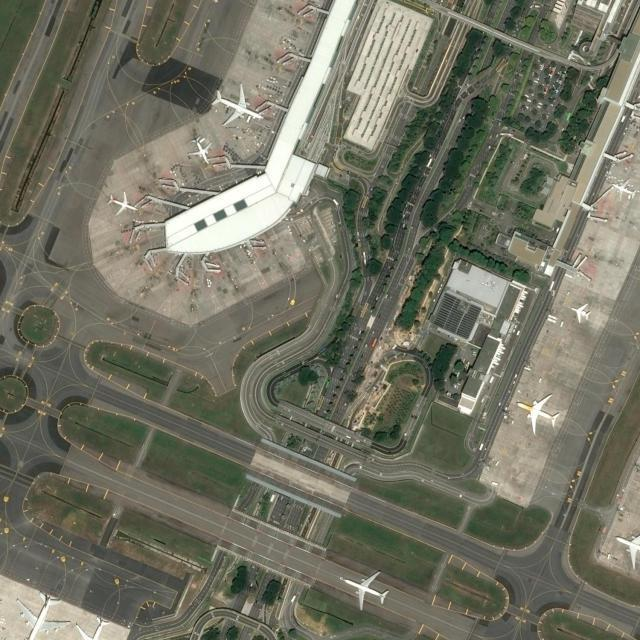Aircraft: (16, 590, 70, 640), (212, 84, 264, 124), (340, 570, 389, 610), (516, 392, 560, 434), (614, 528, 640, 570), (76, 614, 110, 640), (105, 190, 136, 214), (189, 136, 212, 165), (611, 179, 637, 201), (569, 304, 592, 323)
